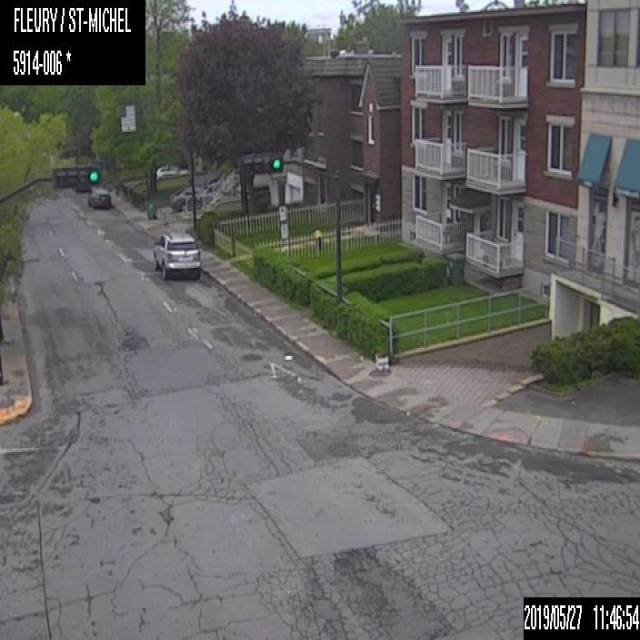vehicle: (152, 229, 203, 280), (169, 184, 205, 207), (86, 189, 111, 211)
